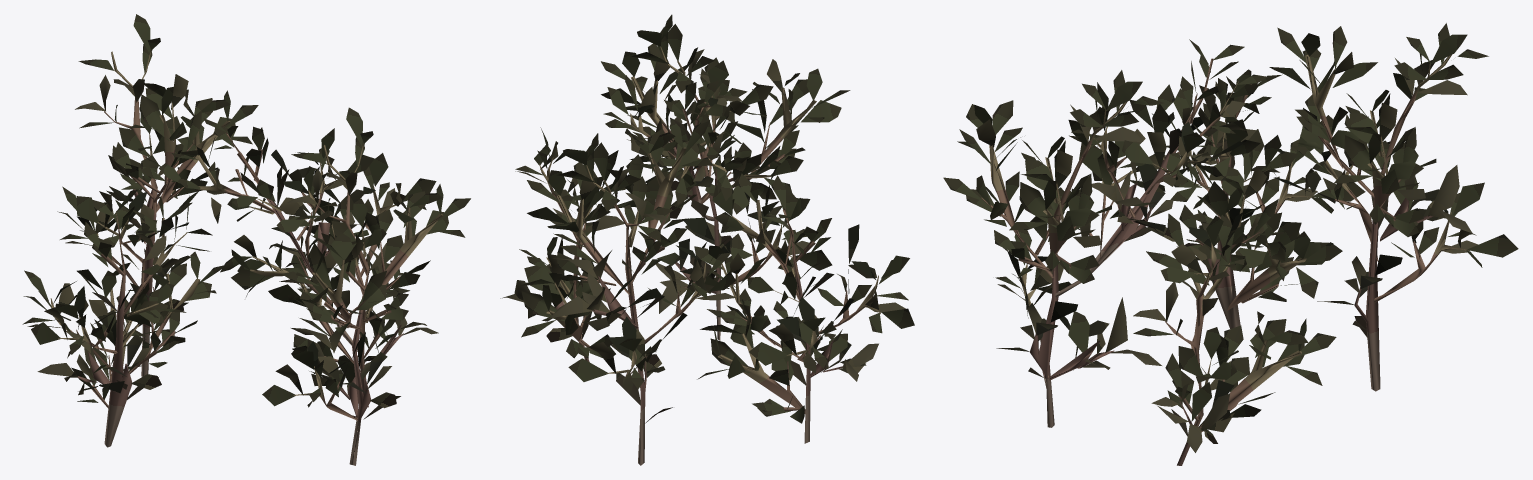
Rendered from ph_shrub_7.glb.
3 renders of one model, left to right at view 1: azimuth 30°, elevation 25°; view 2: azimuth 150°, elevation 25°; view 3: azimuth 270°, elevation 25°, orthographic. The views are drawn at different scales.
Parts seen in each view (by area): view 1: ph_shrub_7_lod1; view 2: ph_shrub_7_lod1; view 3: ph_shrub_7_lod1.
Part boxes in pixels (box(x1,y1,x2,y2)): ph_shrub_7_lod1: box(22, 14, 470, 465); ph_shrub_7_lod1: box(500, 14, 914, 465); ph_shrub_7_lod1: box(943, 23, 1518, 465).
Bounding box in the file's own units: 0.2785 × 0.2143 × 0.2945.
Materials: 1 (1 with a texture image).
